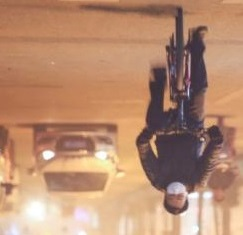person: (134, 26, 218, 214), (207, 115, 237, 203)
